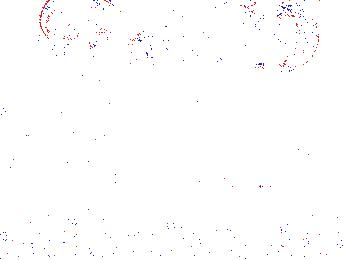moon jellyfish: (59, 75, 129, 139), (127, 31, 200, 89), (202, 7, 263, 71), (38, 1, 117, 46), (269, 9, 320, 72)
